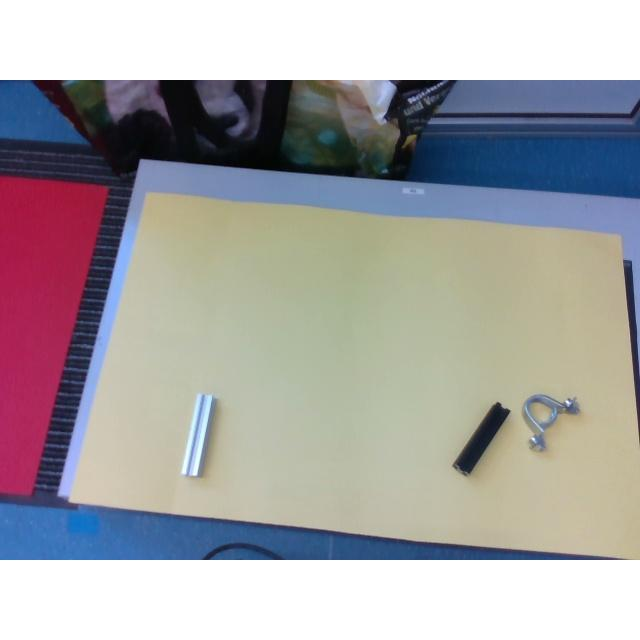F20_20_B: (454, 402, 511, 473)
F20_20_G: (180, 393, 212, 477)
Housing: (522, 393, 578, 449)
